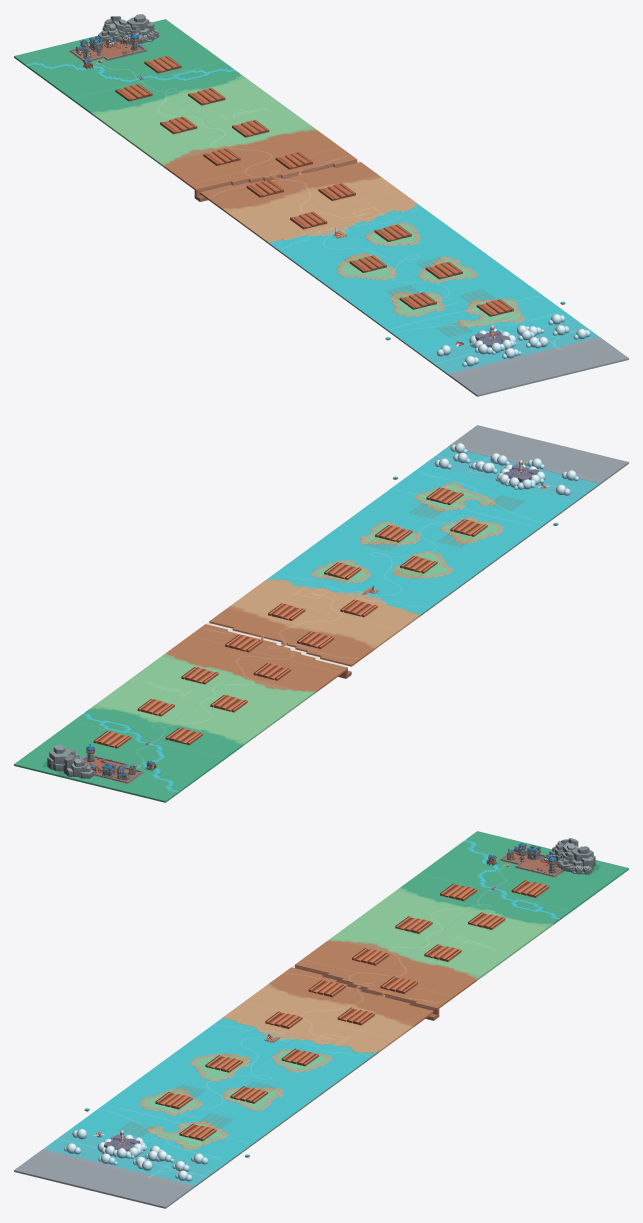
File: world-transformed.glb
The picture shows the model from 3 angles, top to bottom: view 1: azimuth 30°, elevation 25°; view 2: azimuth 150°, elevation 25°; view 3: azimuth 330°, elevation 25°; orthographic projection.
Parts seen in each view (by area): view 1: square_forest2, path, platform, fence_stone_straight, Cloud_02, square_sandToPlain_corner_B2; view 2: square_forest2, path, platform, fence_stone_straight, Cloud_02, square_sandToPlain_corner_B2; view 3: square_forest2, path, platform, fence_stone_straight, Cloud_02, square_sandToPlain_corner_B2.
Boxes of the visible parts, x1=… form: square_forest2: x1=14, y1=19, x2=628, y2=396; path: x1=15, y1=19, x2=602, y2=375; platform: x1=115, y1=56, x2=513, y2=316; fence_stone_straight: x1=70, y1=14, x2=159, y2=69; Cloud_02: x1=436, y1=314, x2=590, y2=366; square_sandToPlain_corner_B2: x1=339, y1=223, x2=522, y2=326; square_forest2: x1=14, y1=425, x2=628, y2=802; path: x1=15, y1=444, x2=601, y2=800; platform: x1=93, y1=487, x2=487, y2=748; fence_stone_straight: x1=47, y1=744, x2=156, y2=783; Cloud_02: x1=434, y1=443, x2=578, y2=495; square_sandToPlain_corner_B2: x1=313, y1=483, x2=501, y2=581; square_forest2: x1=14, y1=831, x2=628, y2=1208; path: x1=40, y1=831, x2=627, y2=1187; platform: x1=155, y1=880, x2=549, y2=1140; fence_stone_straight: x1=486, y1=838, x2=595, y2=876; Cloud_02: x1=64, y1=1129, x2=208, y2=1181; square_sandToPlain_corner_B2: x1=141, y1=1050, x2=329, y2=1148.
Bounding box in the file's own units: 108 × 18.7 × 509.
Materials: 14 (14 with a texture image).
